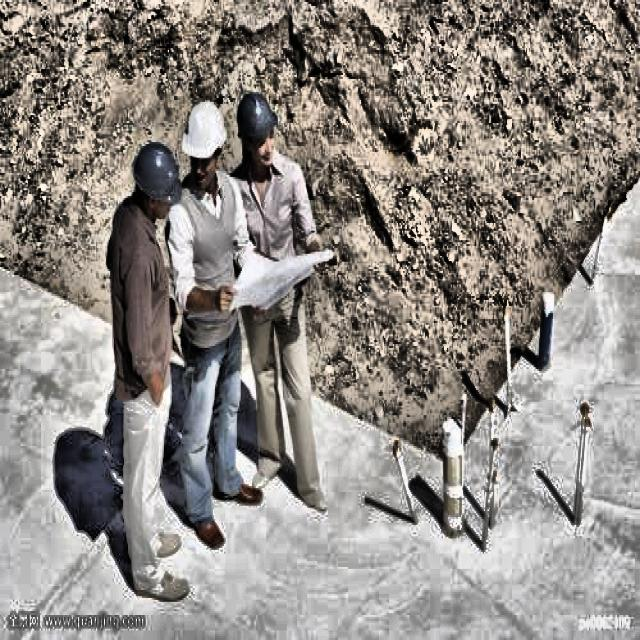helmet: (180, 100, 230, 202), (134, 132, 183, 225), (234, 86, 282, 175)
